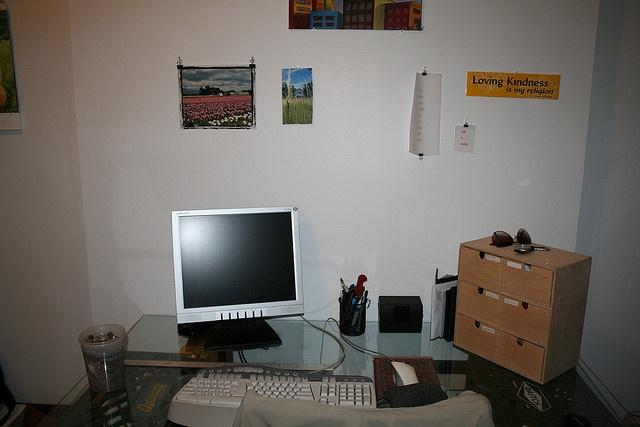AIO PC-Monitor-TV: (170, 203, 305, 324)
